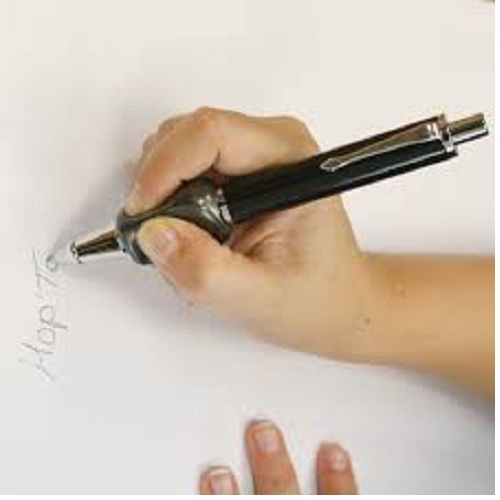Boligrafo: (41, 108, 500, 269)
